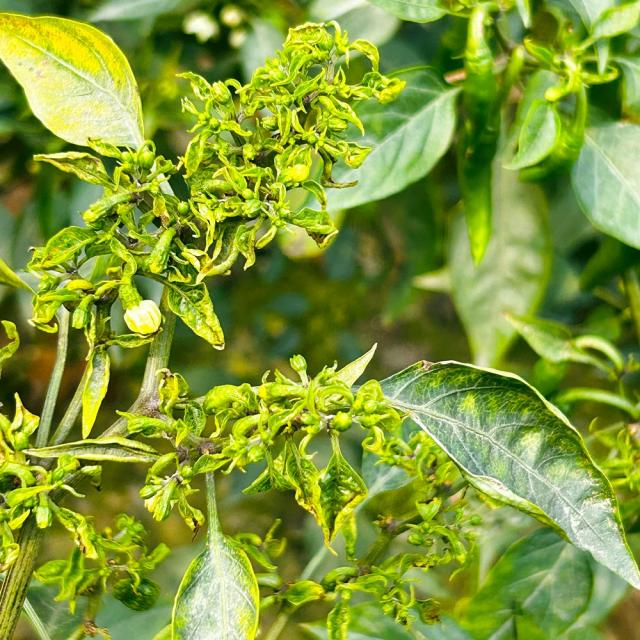Chilli_Leaf_Curl: (1, 4, 638, 637), (11, 17, 405, 440), (365, 358, 639, 590), (172, 18, 405, 281), (201, 341, 394, 557), (0, 11, 146, 152), (167, 464, 261, 638)
